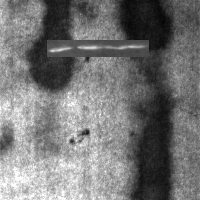patches: (129, 79, 176, 200), (27, 1, 78, 92), (113, 1, 175, 59)
scratches: (47, 40, 149, 57)
